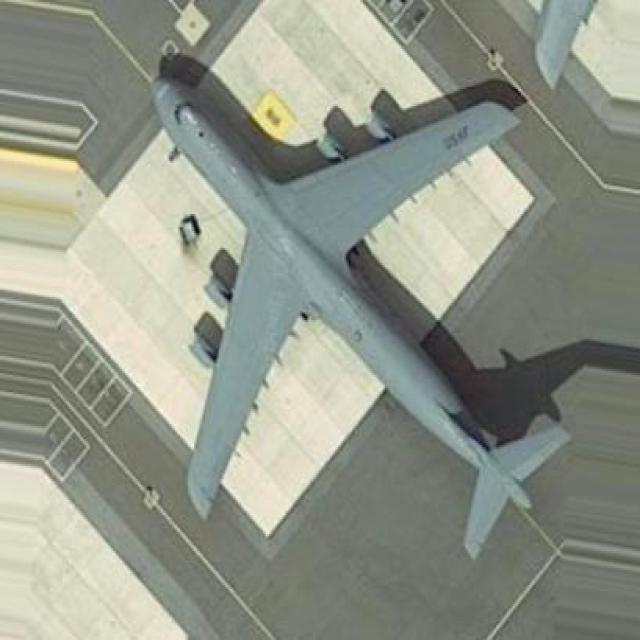C-5_TopDown: (149, 38, 574, 560)
